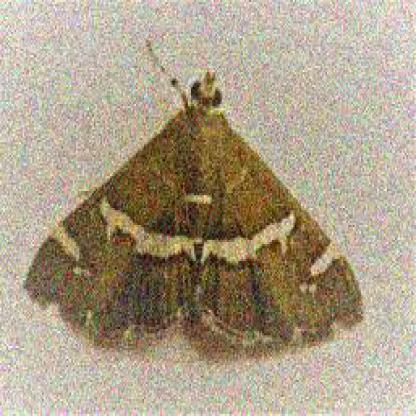Leaf Webber: (18, 66, 365, 363)
